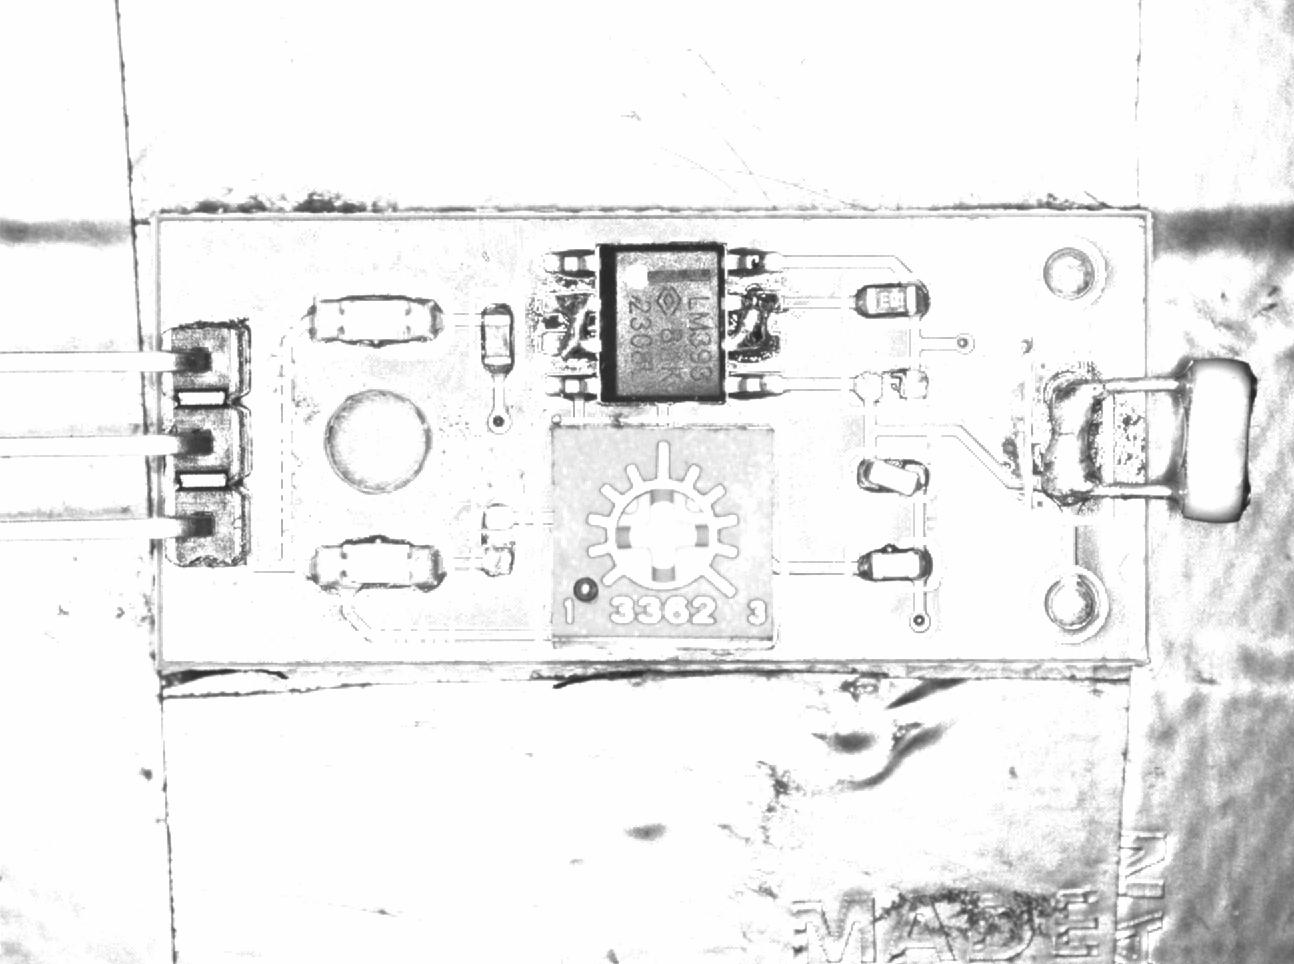bridge: (1024, 354, 1111, 521), (839, 357, 941, 408), (725, 279, 778, 370), (543, 288, 596, 369)
lifted: (851, 449, 937, 502)
miss: (474, 481, 520, 585)
ok: (847, 536, 940, 592), (841, 274, 936, 324), (474, 291, 523, 382)
